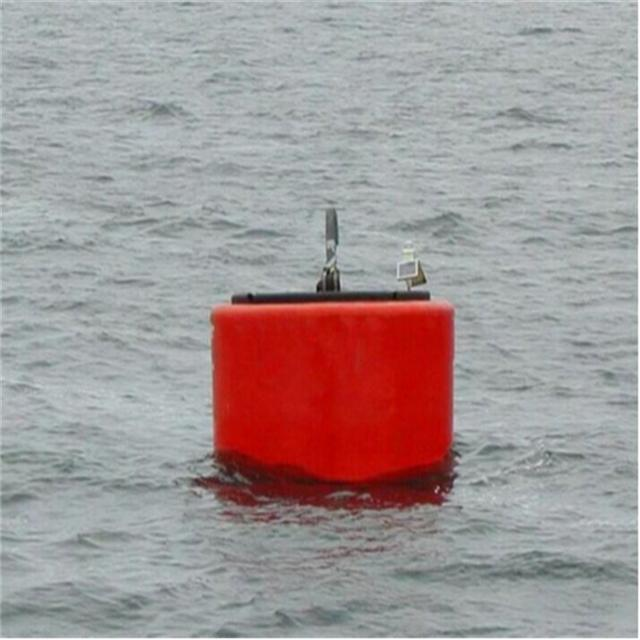buoy: (211, 206, 459, 493)
